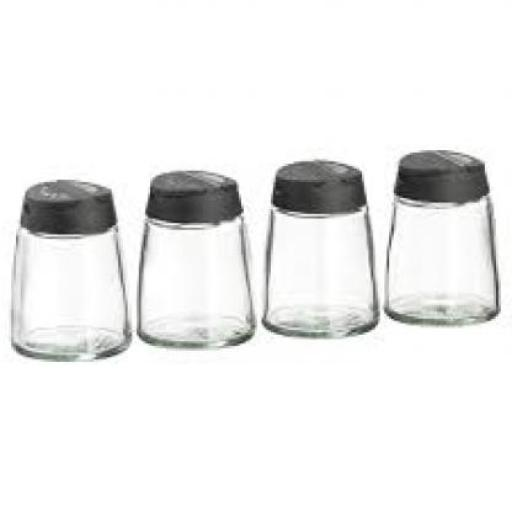glass: (14, 221, 132, 361), (139, 212, 260, 346), (266, 205, 380, 337), (387, 193, 500, 324)
plastic: (150, 168, 244, 222), (275, 158, 369, 212), (25, 180, 118, 232), (396, 151, 494, 200)
